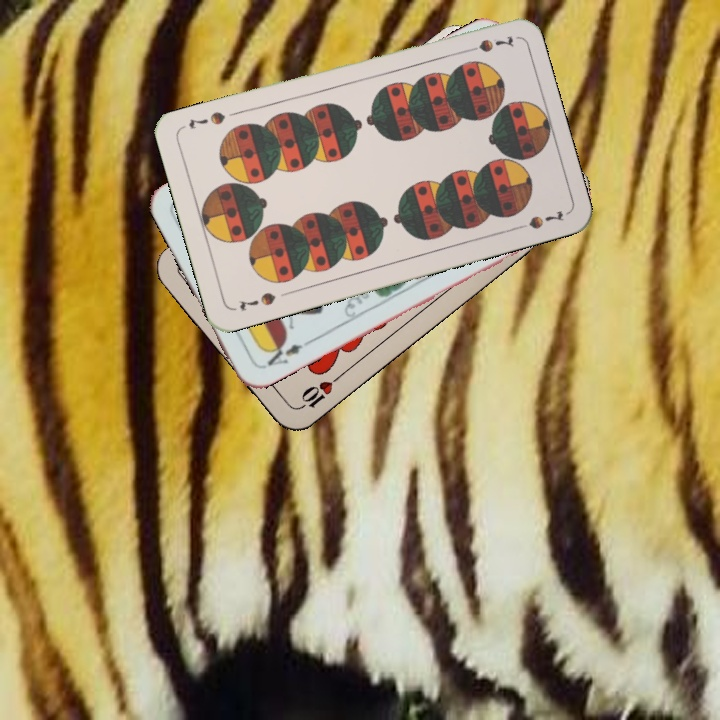EA: (260, 335, 312, 369)
H10: (294, 370, 344, 413)
S7: (458, 31, 517, 56), (235, 288, 278, 314)
